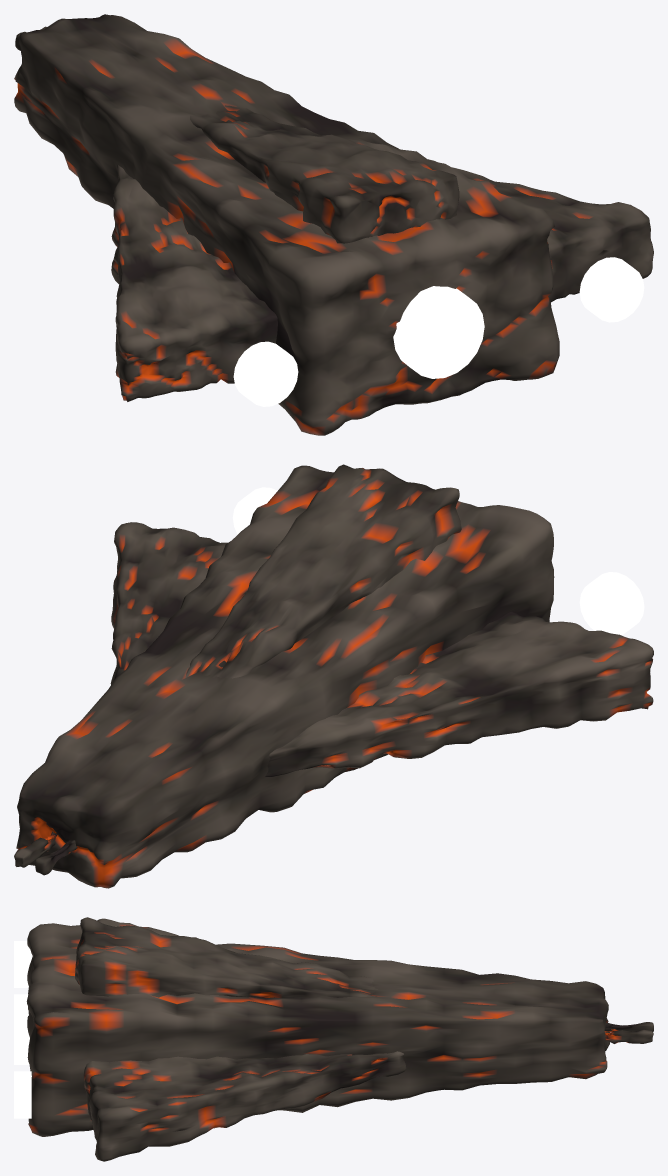
Rendered from thraal_large.glb.
3 renders of one model, top to bottom at view 1: azimuth 30°, elevation 25°; view 2: azimuth 150°, elevation 25°; view 3: azimuth 270°, elevation 25°, orthographic. The views are drawn at different scales.
Visible parts, largest first — view 1: thraal_large.001; view 2: thraal_large.001; view 3: thraal_large.001.
Boxes of the visible parts, box(x1,y1,x2,y2) form: thraal_large.001: box(14, 14, 653, 435); thraal_large.001: box(14, 464, 653, 888); thraal_large.001: box(14, 917, 653, 1161).
Bounding box in the file's own units: 7.42 × 2.69 × 10.
